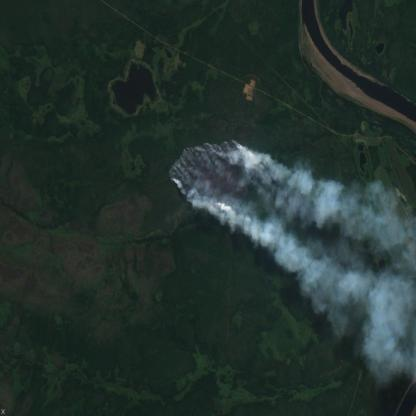fire: (165, 134, 265, 218)
